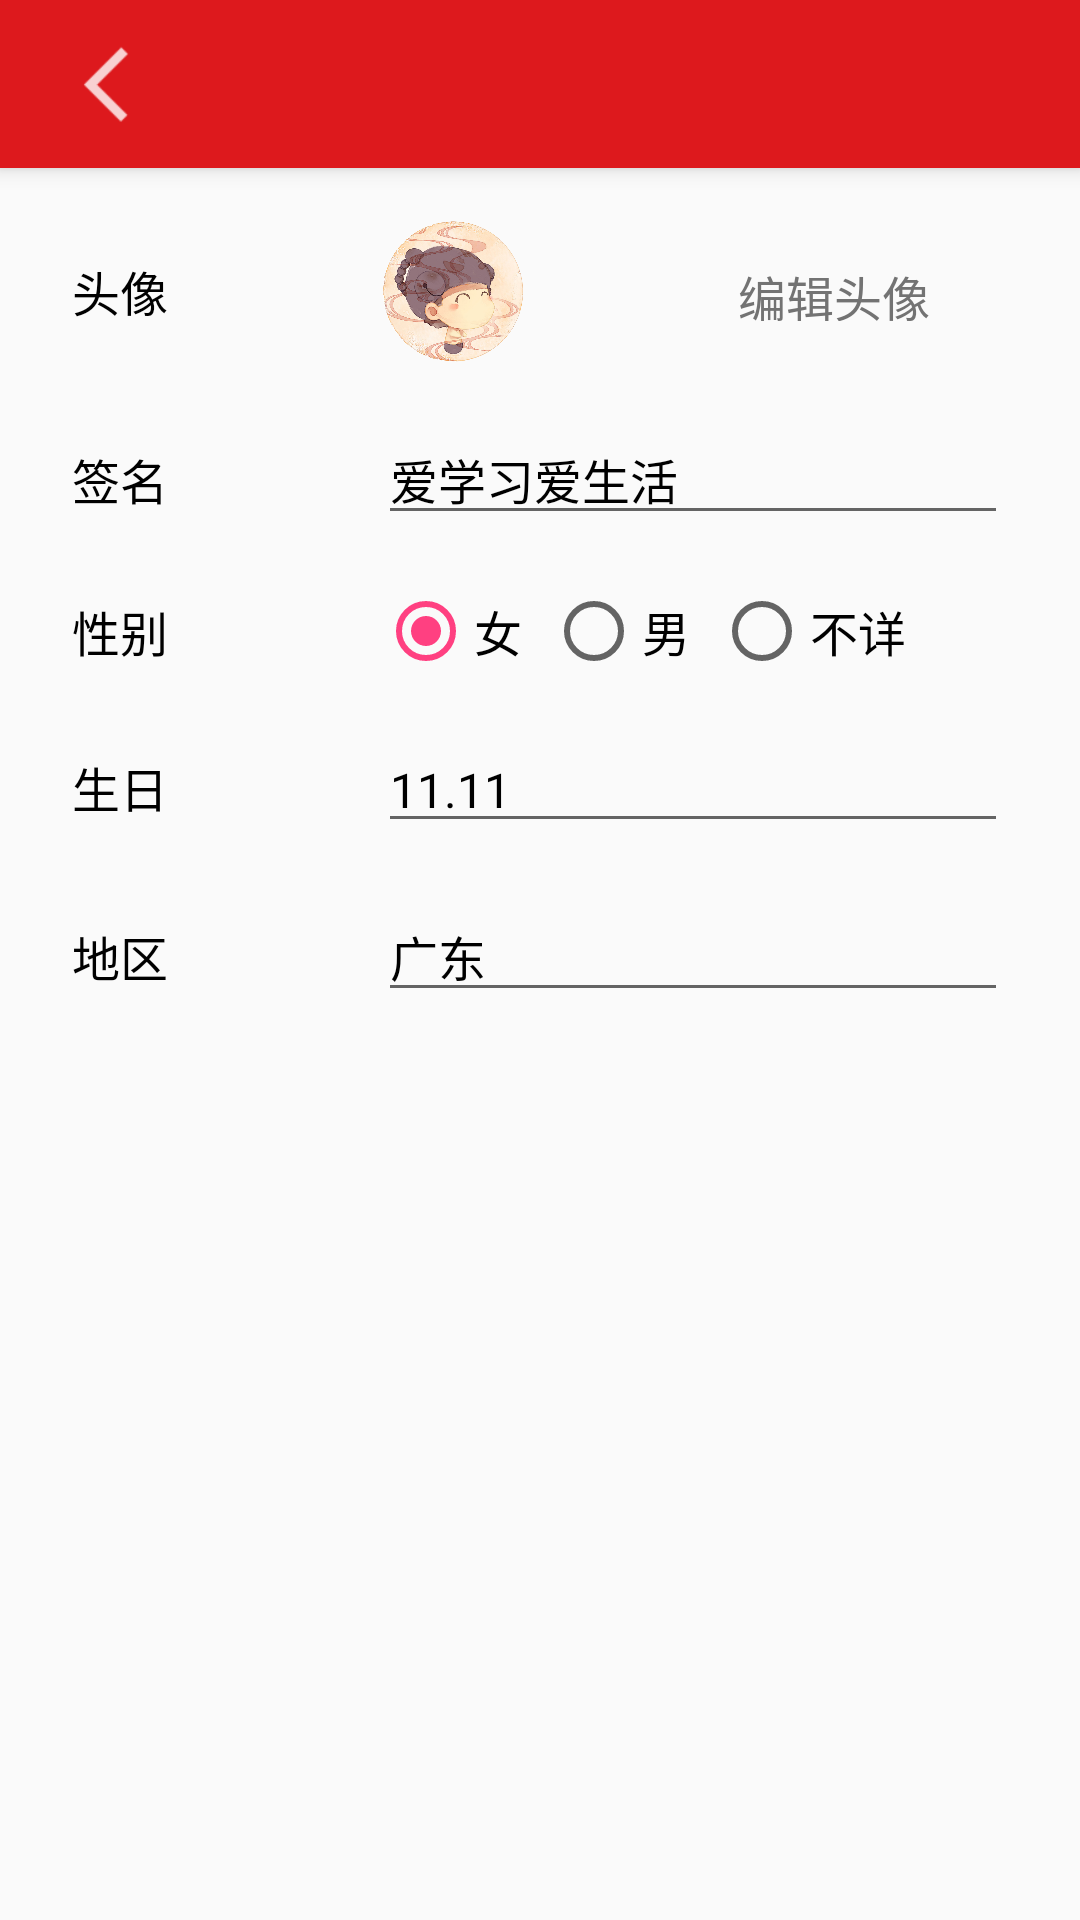

Locate icon controls on the screen. Image size 1080w x 1920h, boxes as rect(x1, y1, x2, y2).
return: rect(84, 47, 128, 122)
touxiang: rect(383, 221, 523, 361)
